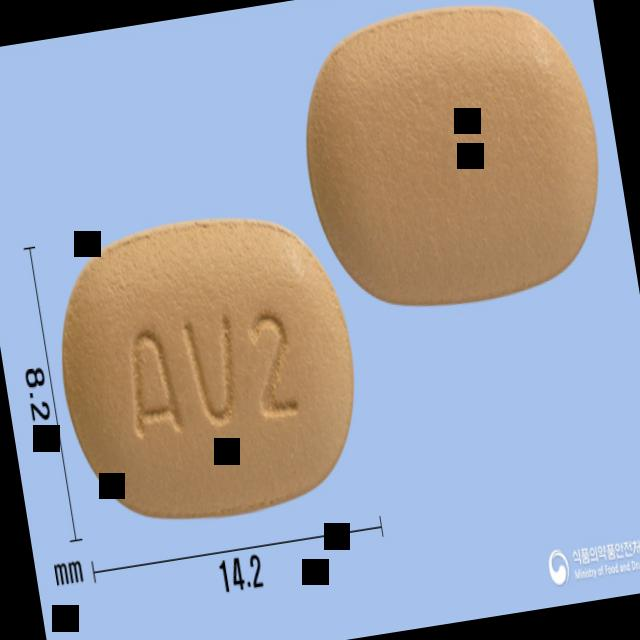Ciprocin: (42, 198, 376, 543), (285, 0, 618, 324)
